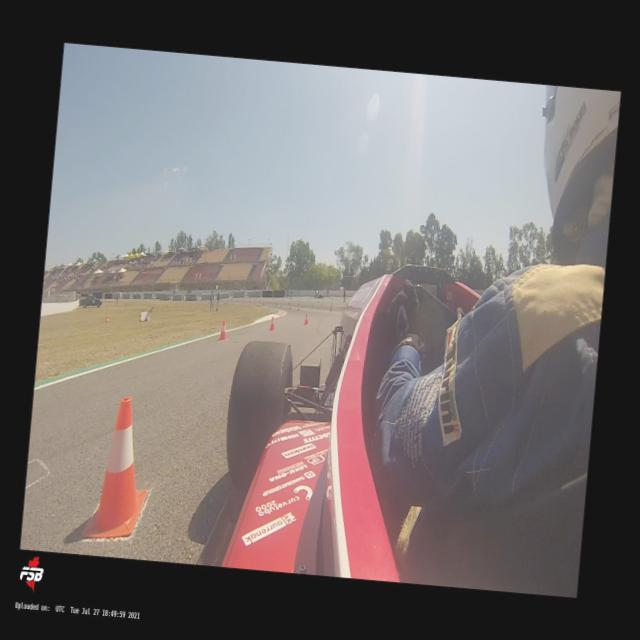orange_cone: (82, 393, 156, 542), (216, 320, 228, 341), (268, 316, 276, 332), (302, 313, 308, 325), (105, 316, 108, 321)
